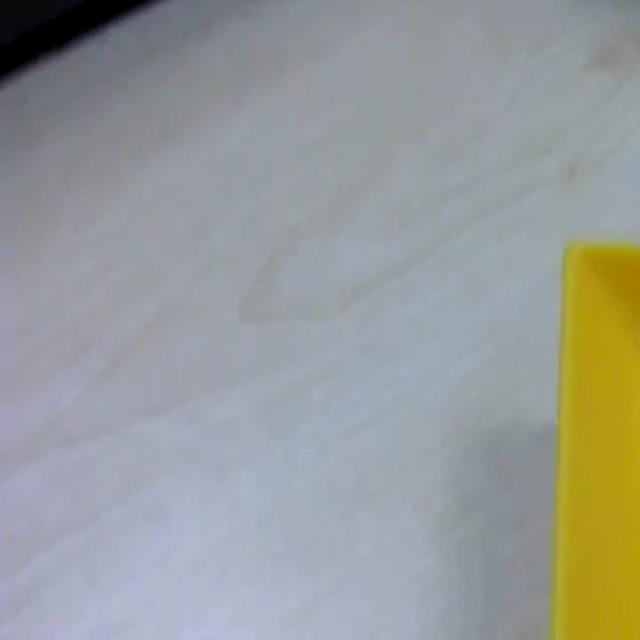yellow_block: (550, 236, 638, 637)
